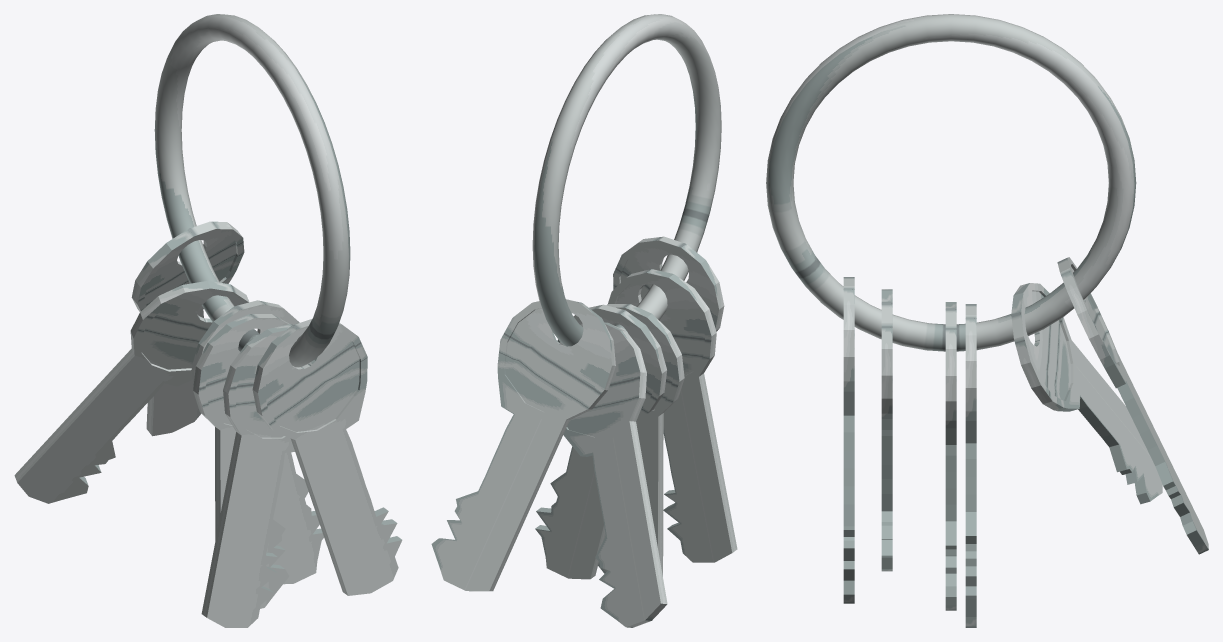
Rendered from chaves.fbx.
3 views of the same model, side by side, from view 1: azimuth 30°, elevation 25°; view 2: azimuth 150°, elevation 25°; view 3: azimuth 270°, elevation 25° (orthographic). The views are drawn at different scales.
Visible parts, largest first — view 1: Cylinder.001, BézierCircle; view 2: Cylinder.001, BézierCircle; view 3: Cylinder.001, BézierCircle.
Part boxes in pixels (<box>): Cylinder.001: <box>14,221,402,627</box>; BézierCircle: <box>154,14,350,367</box>; Cylinder.001: <box>431,236,737,627</box>; BézierCircle: <box>532,14,721,346</box>; Cylinder.001: <box>843,257,1208,627</box>; BézierCircle: <box>766,14,1136,351</box>.
Size of the model in its own units: 161 by 380 by 258.
Materials: 1 (1 with a texture image).
